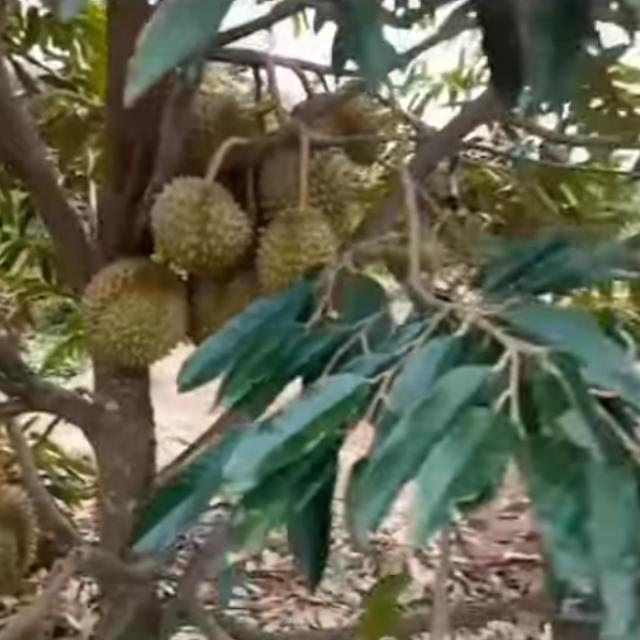mature: (77, 260, 193, 370), (144, 172, 255, 282), (255, 203, 342, 316)
